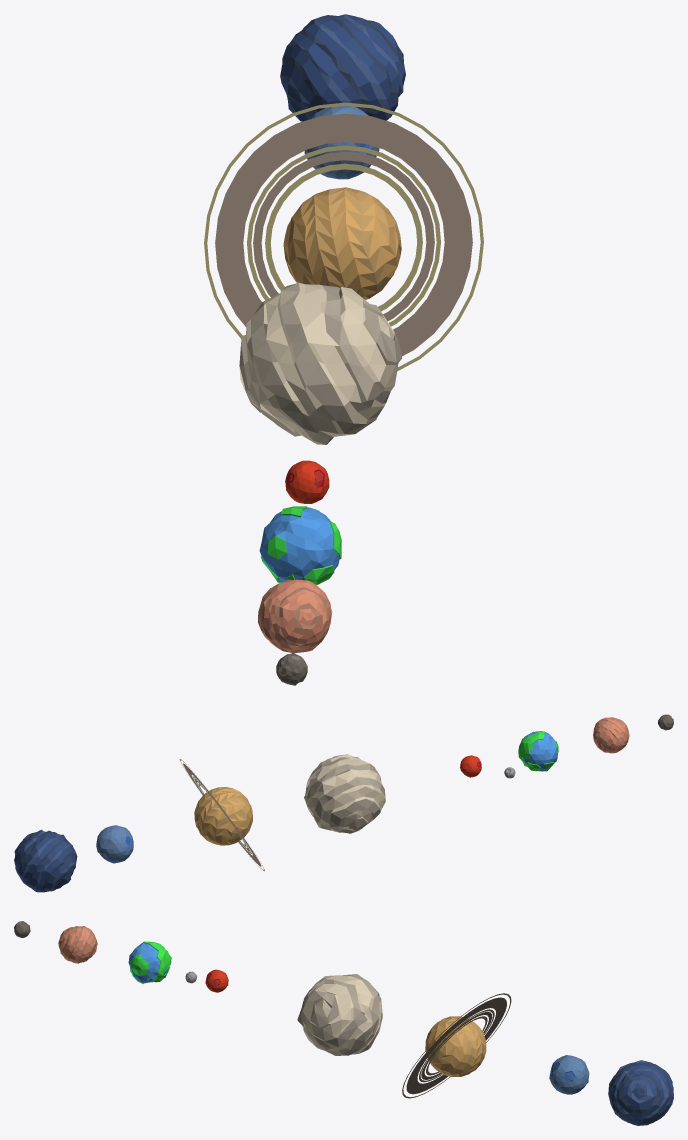
File: SM_Planets.fbx
The picture shows the model from 3 angles, top to bottom: view 1: azimuth 30°, elevation 25°; view 2: azimuth 150°, elevation 25°; view 3: azimuth 270°, elevation 25°; orthographic projection. The views are drawn at different scales.
Parts seen in each view (by area): view 1: SaturnsRings, Jupiter, Neptune, Saturn, Earth, Venus, Mars, uranus; view 2: Jupiter, Neptune, Saturn, Earth, uranus, Venus, SaturnsRings, Mars; view 3: Jupiter, Neptune, Saturn, SaturnsRings, Earth, uranus, Venus, Mars.
Part boxes in pixels (bbox=[...]): SaturnsRings: bbox=[204, 102, 483, 371]; Jupiter: bbox=[239, 283, 402, 444]; Neptune: bbox=[280, 14, 405, 121]; Saturn: bbox=[283, 187, 401, 299]; Earth: bbox=[259, 506, 341, 584]; Venus: bbox=[258, 579, 332, 653]; Mars: bbox=[285, 460, 329, 503]; uranus: bbox=[304, 106, 379, 179]; Jupiter: bbox=[304, 754, 385, 833]; Neptune: bbox=[14, 829, 77, 892]; Saturn: bbox=[194, 787, 252, 845]; Earth: bbox=[518, 731, 558, 771]; uranus: bbox=[96, 825, 133, 863]; Venus: bbox=[593, 717, 629, 753]; SaturnsRings: bbox=[179, 759, 264, 871]; Mars: bbox=[460, 755, 481, 777]; Jupiter: bbox=[297, 974, 382, 1055]; Neptune: bbox=[608, 1060, 673, 1125]; Saturn: bbox=[425, 1016, 486, 1076]; SaturnsRings: bbox=[402, 993, 511, 1098]; Earth: bbox=[128, 941, 171, 983]; uranus: bbox=[549, 1055, 589, 1094]; Venus: bbox=[58, 926, 97, 963]; Mars: bbox=[205, 969, 228, 992].
Bounding box in the file's own units: 2029 × 591 × 3115.
